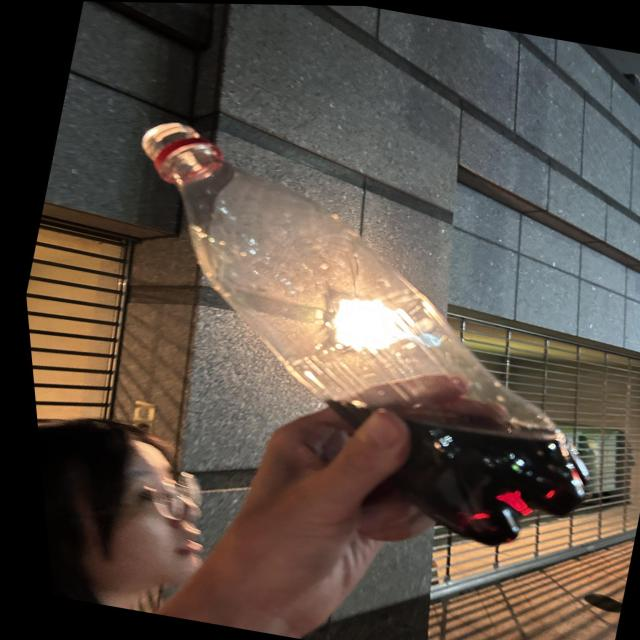low: (142, 123, 588, 545)
